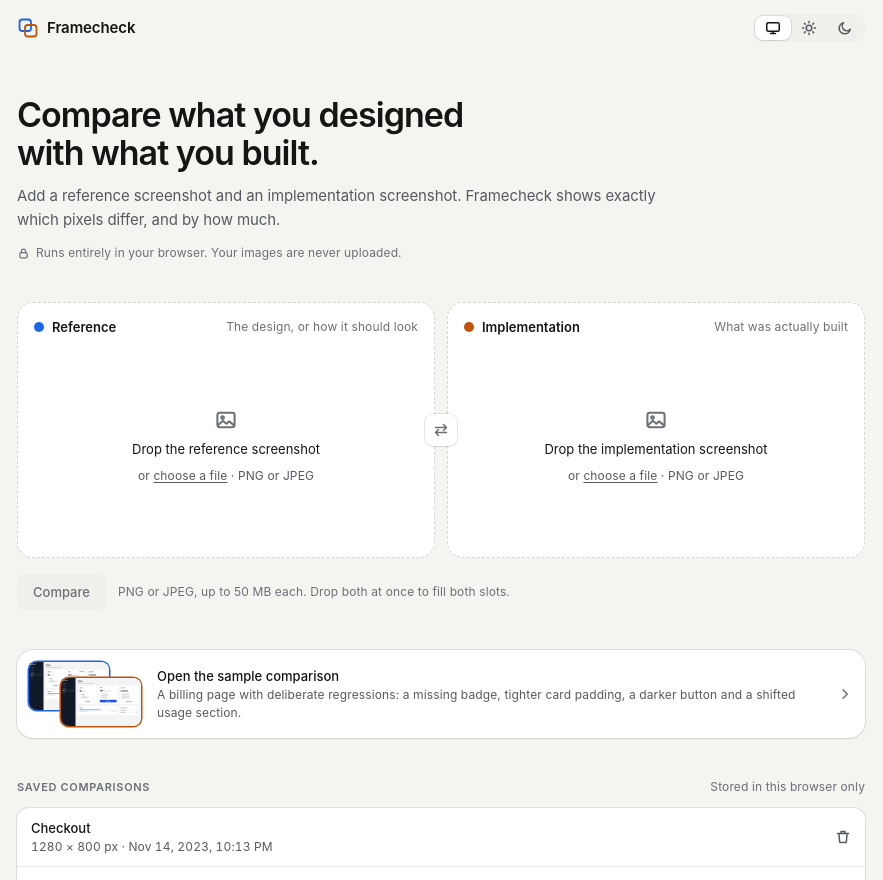
Test case: HomeScreen › lists saved comparisons and deletes one only after confirmation
Click the button named "Delete Checkout". click: {"x": 843, "y": 837}
box: [829,823,857,851]
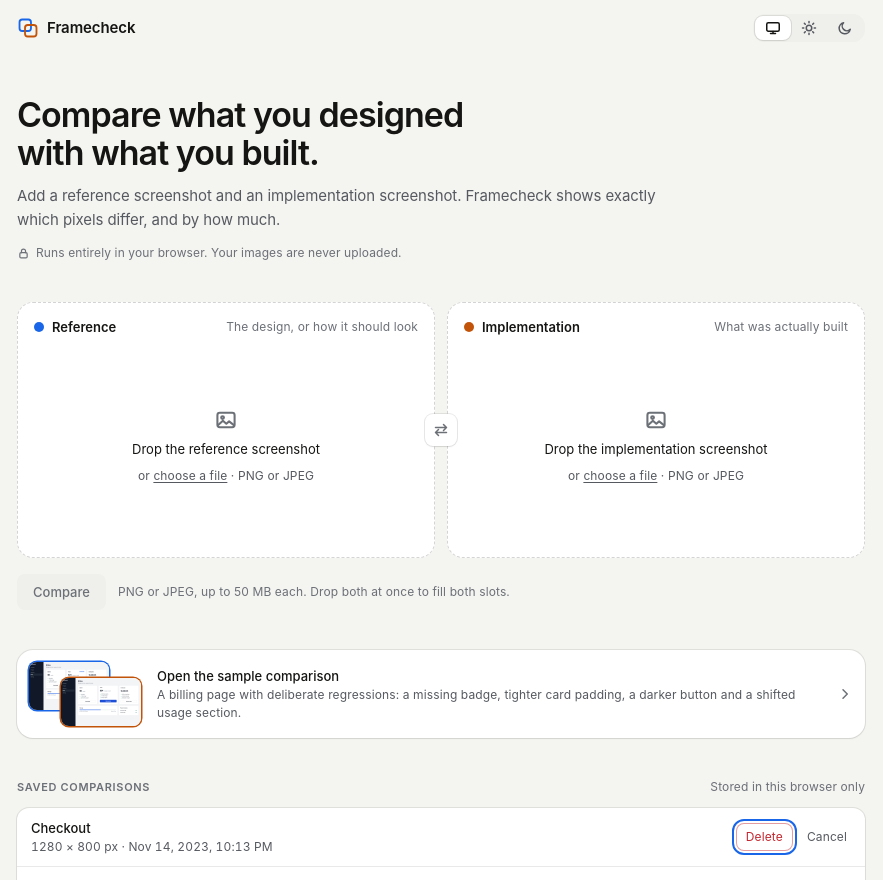
Click the button with aria-label "Confirm deleting Checkout". click: {"x": 764, "y": 837}
box: [736,823,793,851]
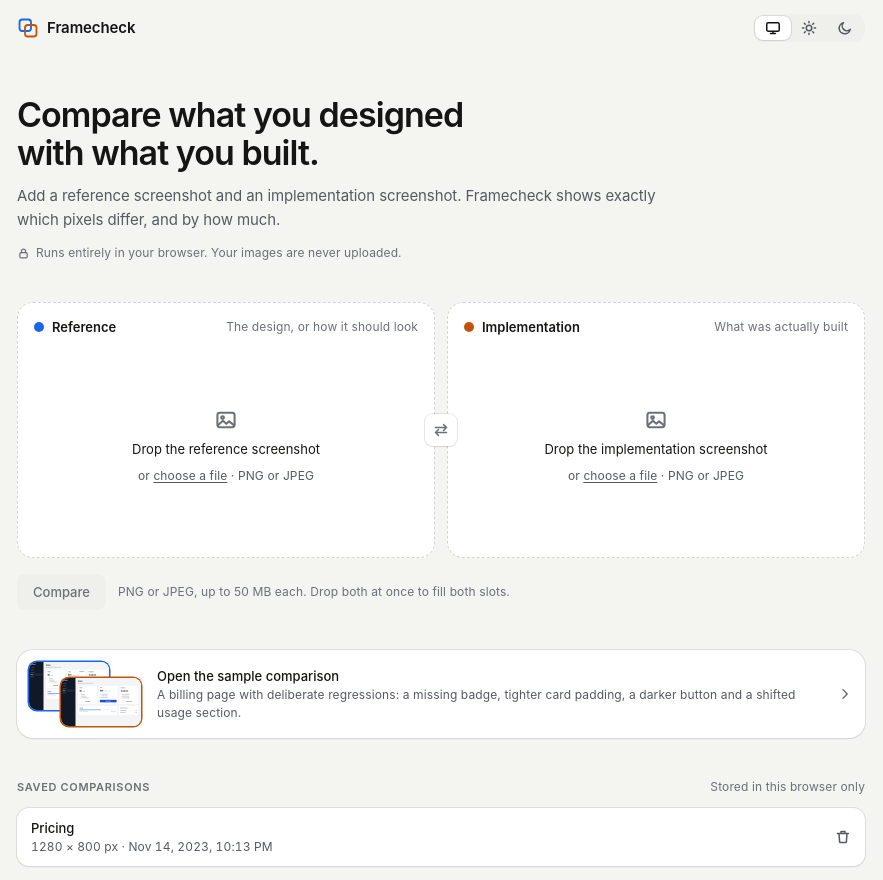
Check: the link "Pricing 1280 × 800 px · Nov 14, 2023, 10:13 PM" is shown, box [31,820,273,854]
Check: the link "Checkout" is gone
